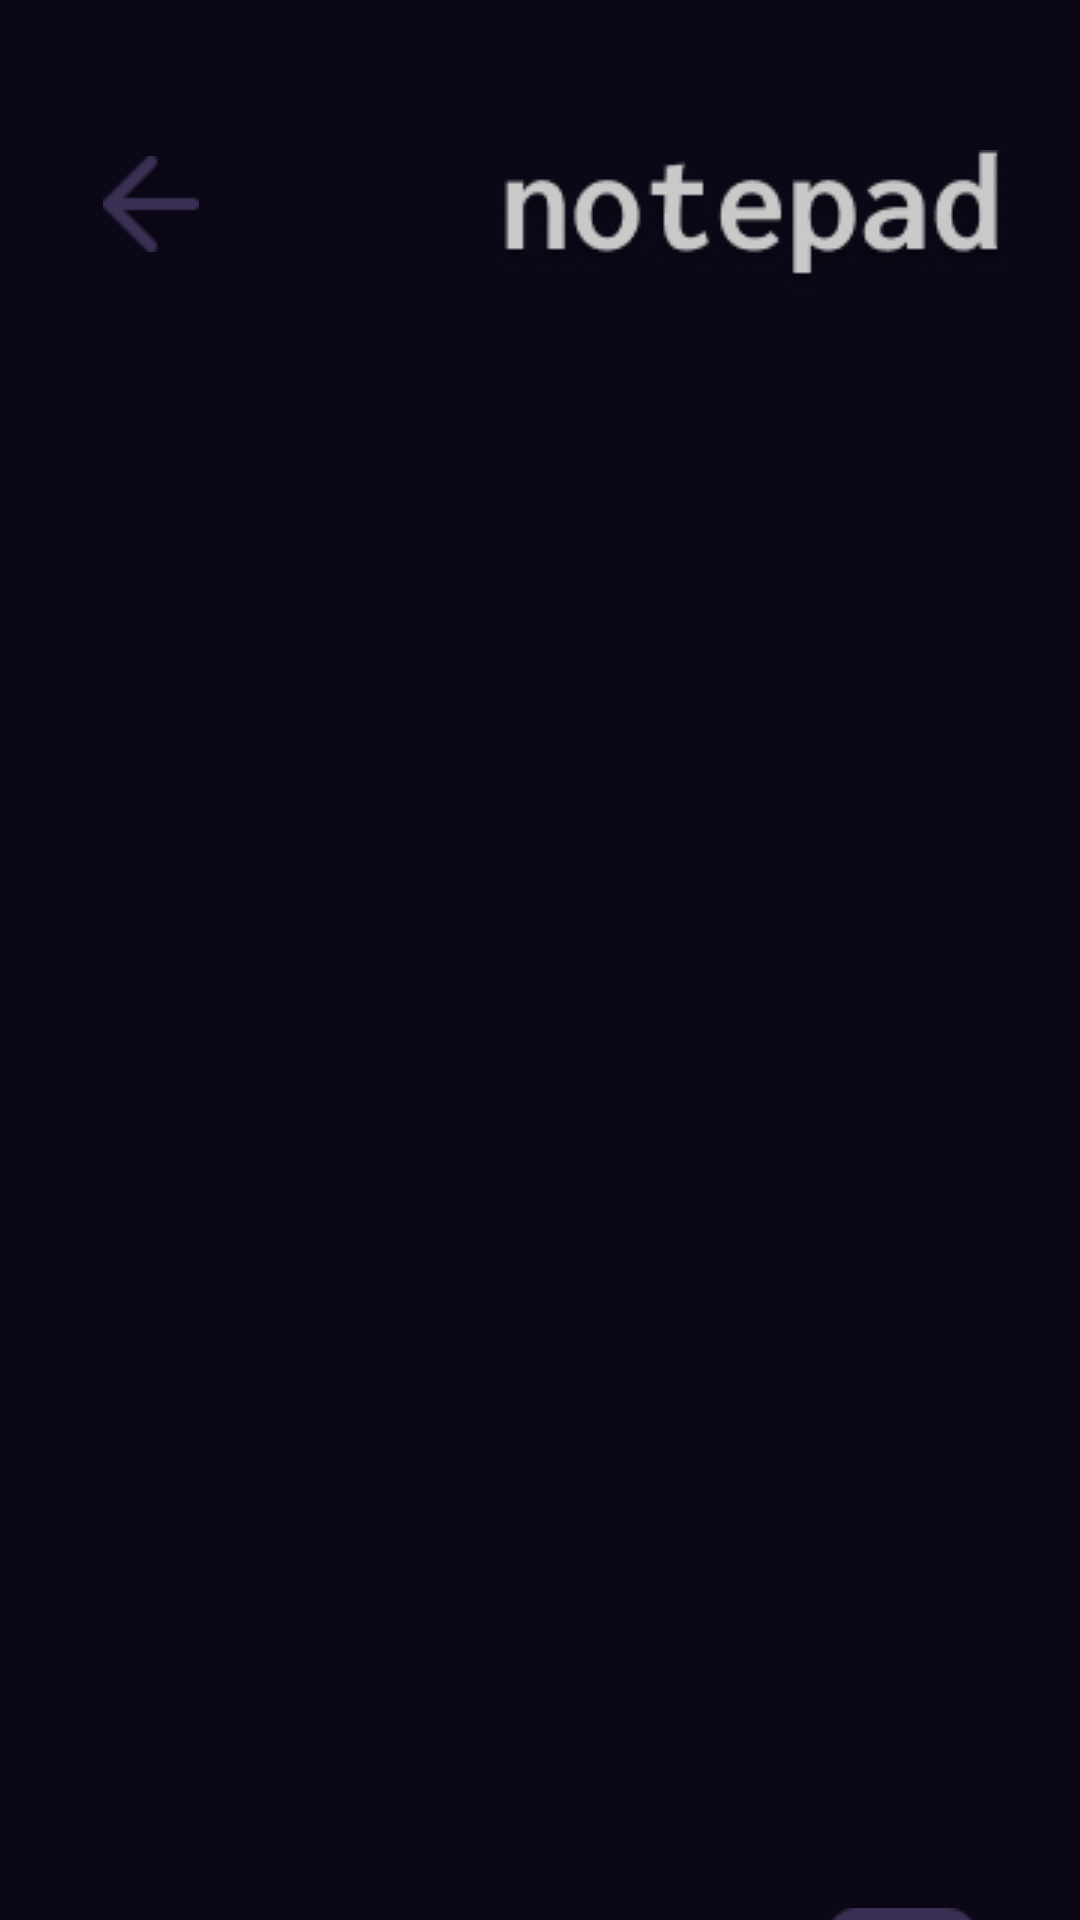

Named icons in this screenshot (1080 x 1920) and their centers, (x=x, y=y):
back: (x=151, y=204)
